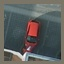car: (24, 18, 40, 51)
